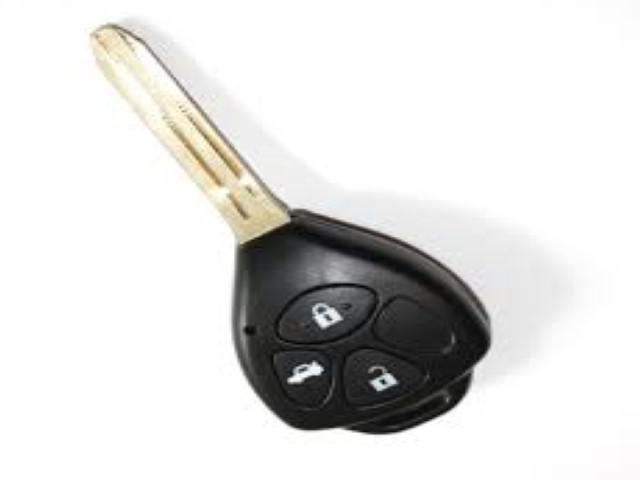key: (88, 24, 492, 480)
